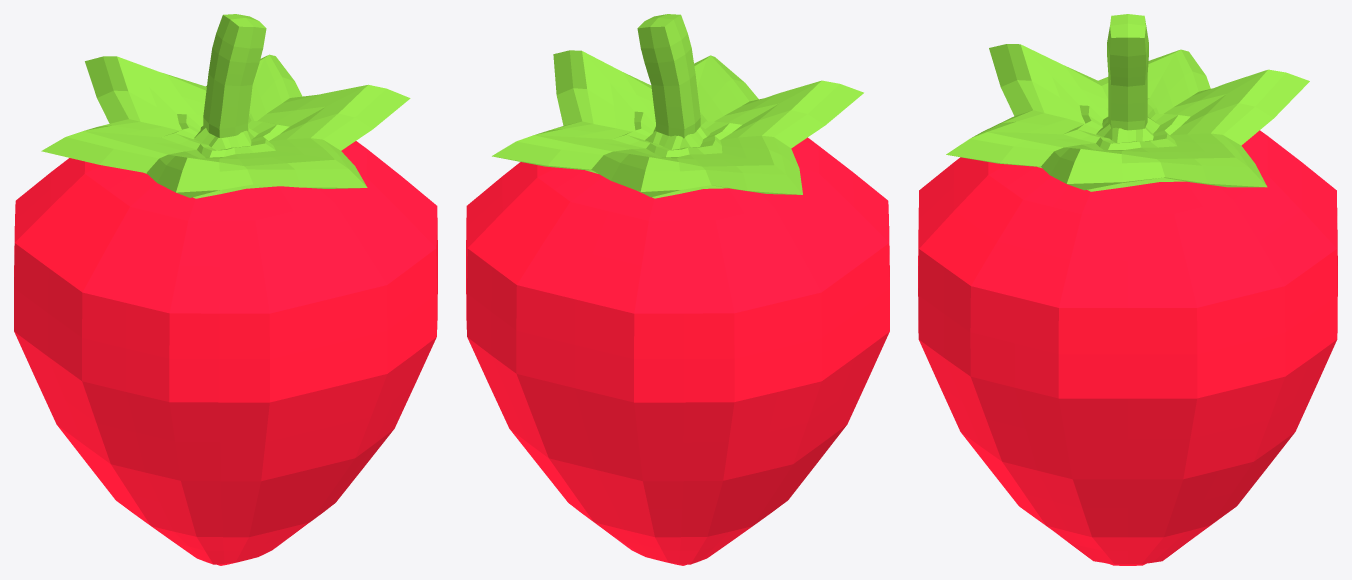
The model's file is GOALstrawberryLowpoly.fbx.
The picture shows the model from 3 angles, left to right: view 1: azimuth 30°, elevation 25°; view 2: azimuth 150°, elevation 25°; view 3: azimuth 270°, elevation 25°; orthographic projection.
Parts seen in each view (by area): view 1: GOAL; view 2: GOAL; view 3: GOAL.
Boxes of the visible parts, x1=… form: GOAL: x1=14, y1=14, x2=437, y2=565; GOAL: x1=466, y1=14, x2=889, y2=565; GOAL: x1=918, y1=14, x2=1337, y2=565.
Bounding box in the file's own units: 346 × 499 × 346.
